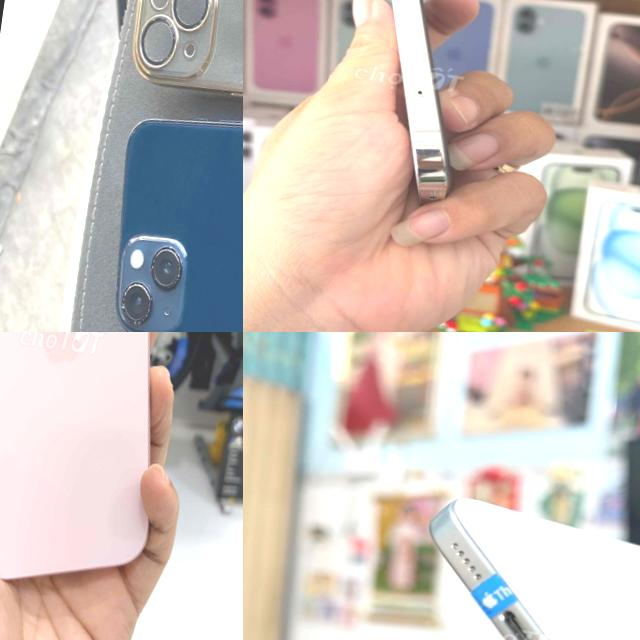gen_12_13: (306, 0, 495, 205), (96, 85, 243, 332)
gen_15: (0, 332, 223, 592)
gen_16: (429, 500, 640, 640)
scratch: (112, 235, 190, 332)
